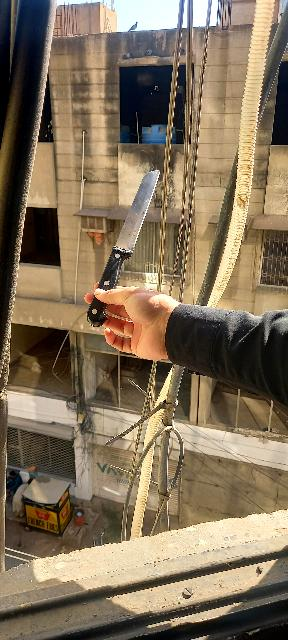long knife: (78, 158, 162, 334)
